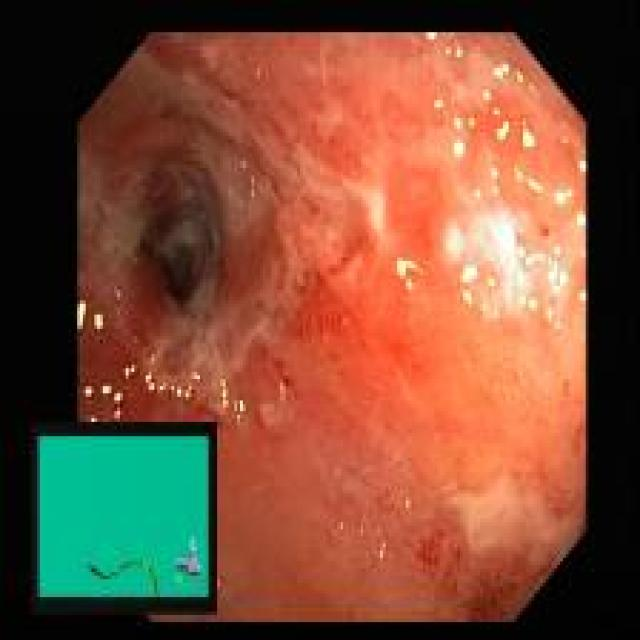ulcerative-colitis: (79, 33, 586, 620)
